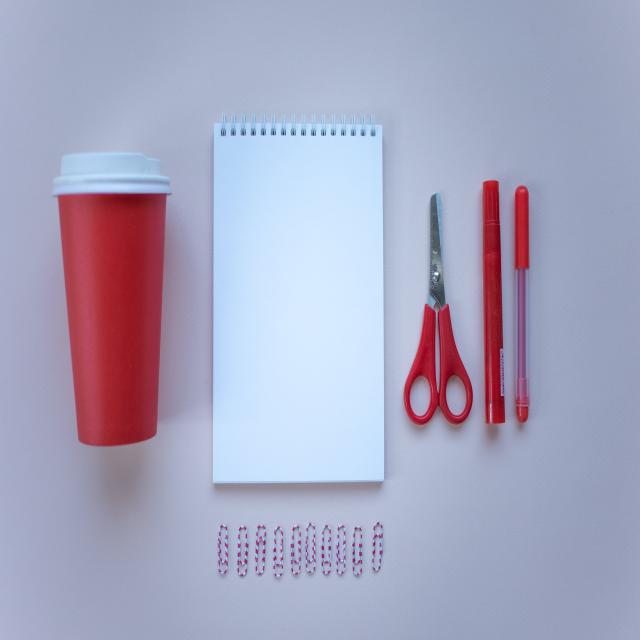cup: (51, 148, 176, 449)
